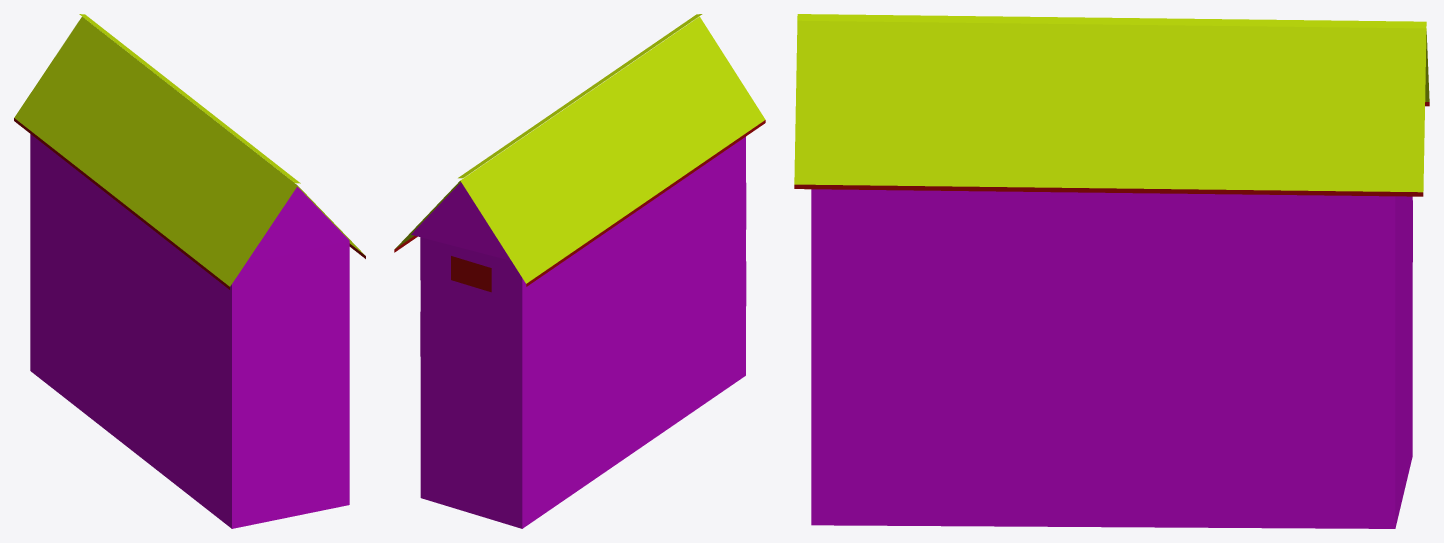
File: bgj_363.glb
3 views of the same model, side by side, from view 1: azimuth 30°, elevation 25°; view 2: azimuth 150°, elevation 25°; view 3: azimuth 270°, elevation 25° (orthographic). The views are drawn at different scales.
Visible parts, largest first — view 1: bgj_363; view 2: bgj_363; view 3: bgj_363.
Part boxes in pixels (x1,y1,x2,y2): bgj_363: (14,14,365,528); bgj_363: (394,14,765,528); bgj_363: (794,14,1429,528).
Bounding box in the file's own units: 5.63 × 12.64 × 15.45.
